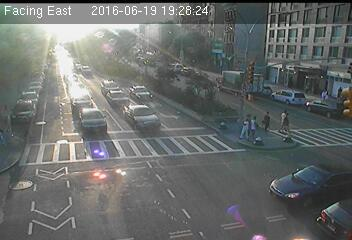neg: (318, 124, 340, 154), (170, 34, 190, 61), (165, 176, 185, 203), (209, 177, 227, 200), (129, 182, 145, 204), (54, 165, 70, 186), (97, 122, 112, 143), (140, 112, 155, 132), (30, 96, 45, 116), (131, 146, 146, 166), (271, 167, 286, 186), (163, 134, 177, 153), (198, 145, 212, 164), (133, 42, 147, 61), (291, 113, 305, 132), (233, 174, 247, 193), (208, 108, 222, 127), (65, 92, 79, 110), (101, 170, 114, 188), (243, 36, 256, 54), (207, 39, 220, 56), (41, 129, 54, 146), (88, 10, 101, 27), (42, 49, 54, 64), (62, 28, 73, 43), (98, 56, 107, 69), (288, 71, 297, 84), (130, 9, 139, 22), (283, 36, 291, 46), (190, 100, 198, 110)
pos: (259, 108, 277, 132), (235, 115, 253, 139), (247, 114, 263, 134), (318, 86, 332, 105), (335, 85, 345, 98)
